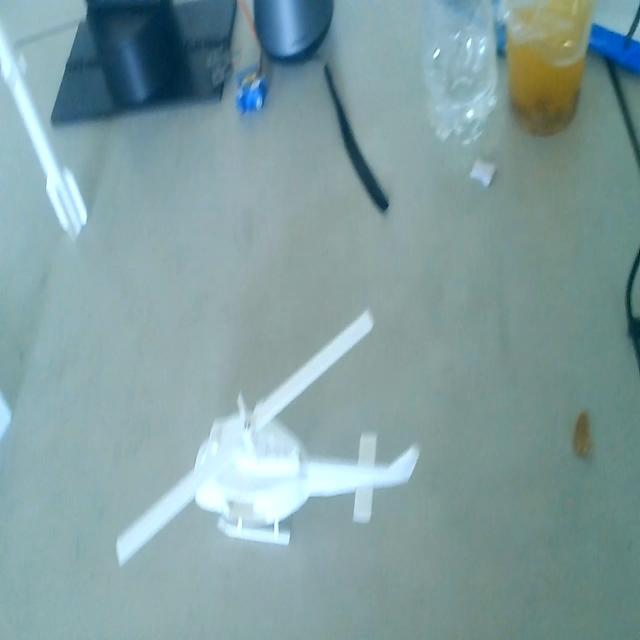Helicopter: (118, 304, 423, 588)
Rocket: (0, 24, 92, 243)
